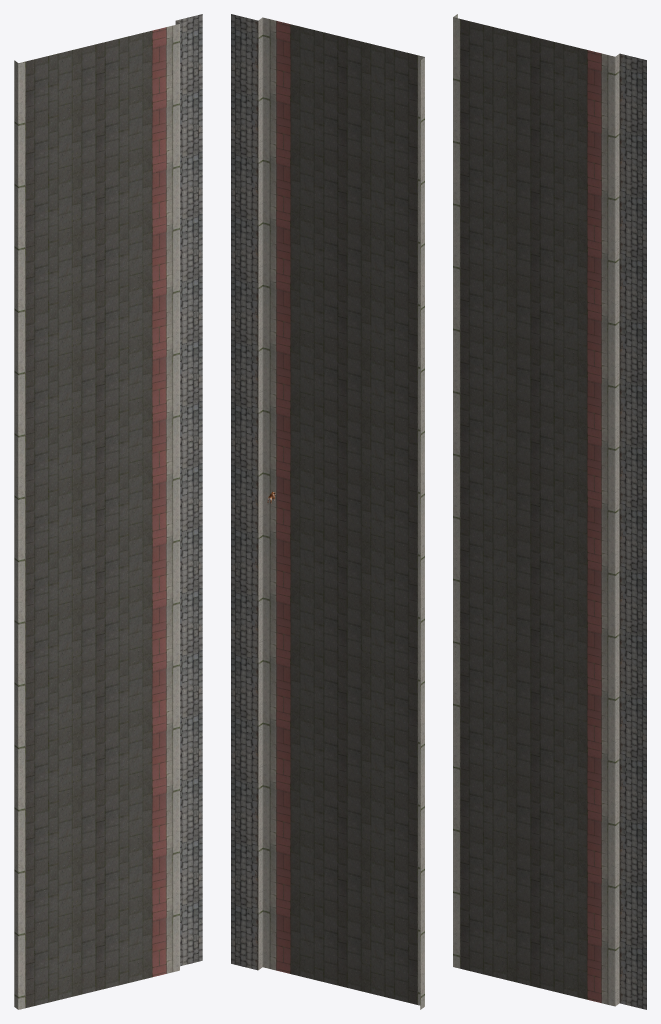
3 views of the same model, side by side, from view 1: azimuth 30°, elevation 25°; view 2: azimuth 150°, elevation 25°; view 3: azimuth 330°, elevation 25° (orthographic).
Visible parts, largest first — view 1: sw_mesh; view 2: sw_mesh; view 3: sw_mesh.
Boxes of the visible parts, bbox=[...] form: sw_mesh: bbox=[14, 14, 202, 1009]; sw_mesh: bbox=[231, 14, 424, 1009]; sw_mesh: bbox=[453, 14, 646, 1009].
Size of the model in its own units: 11.97 by 57.39 by 1.11.
Materials: 2 (2 with a texture image).
